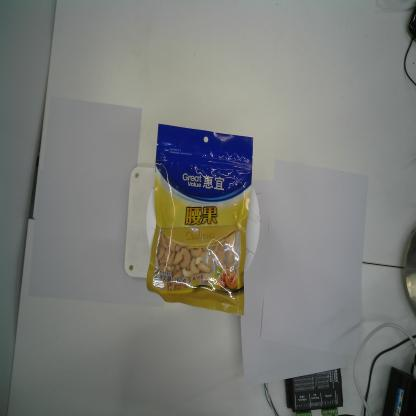Dried Fruit: (144, 121, 254, 316)
